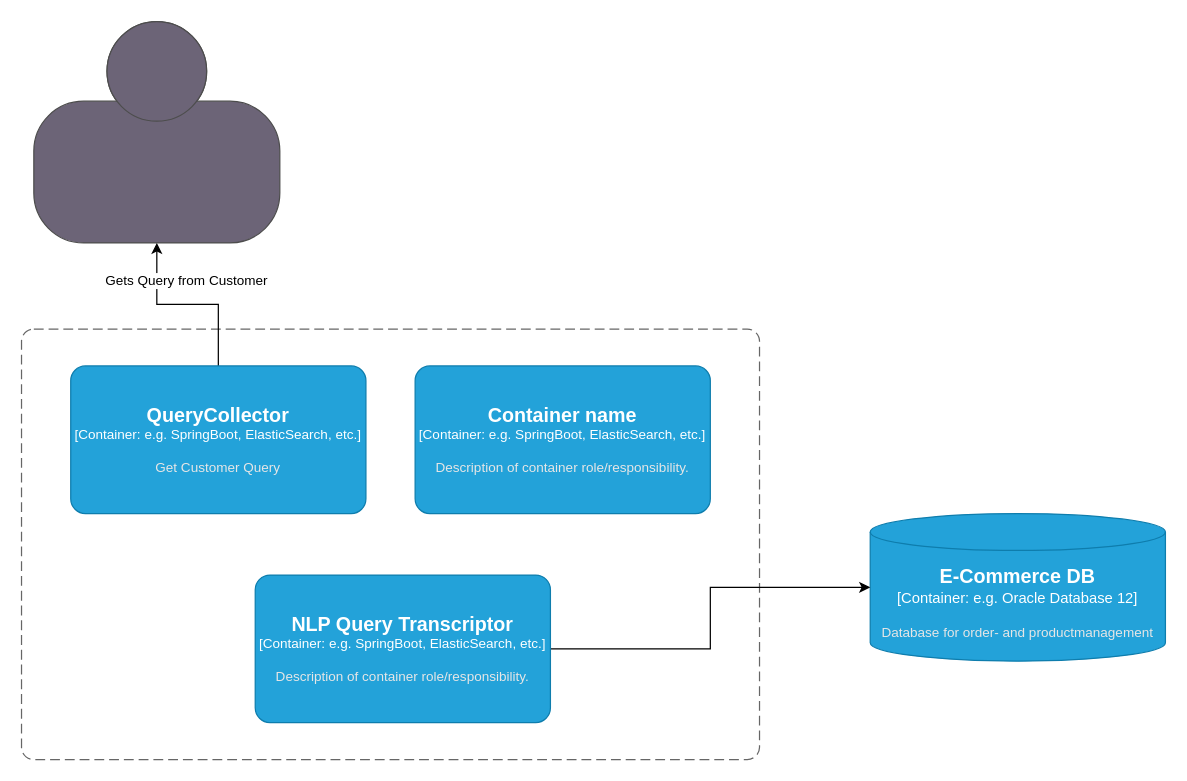
Some shapes in this 1187 by 781 pixel diagram are drawn without their labels. Here are the shapes that lost their labels. From the top down, the box of each, then its label:
(33, 20, 280, 243): Customer [Person] Customer interacting with ShopWise
(20, 328, 760, 760): System name [Software System]
